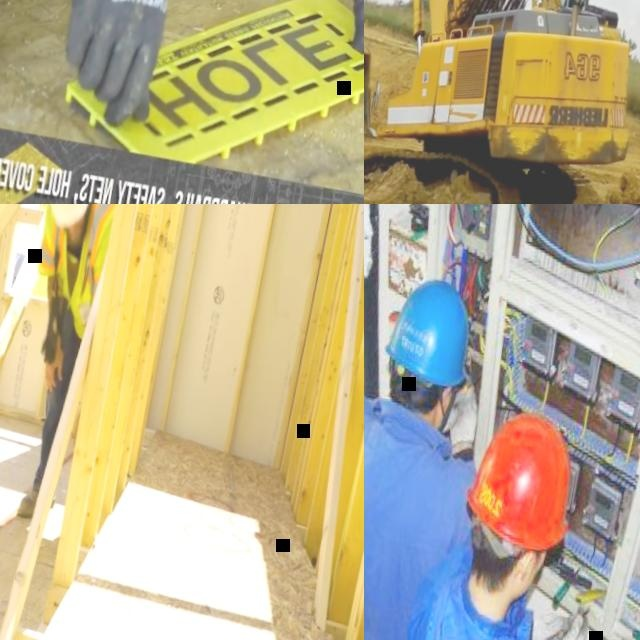Hardhat: (456, 404, 585, 555), (377, 272, 483, 392), (41, 204, 100, 228)
NO-Mask: (508, 564, 533, 600)
NO-Safety Vest: (364, 398, 476, 640), (404, 577, 549, 640)
Person: (0, 0, 364, 181), (364, 261, 521, 640), (399, 396, 627, 640), (0, 204, 128, 524), (572, 0, 585, 4)
Safety Vest: (23, 204, 119, 340)
machinery: (364, 0, 640, 204), (465, 0, 640, 40)
